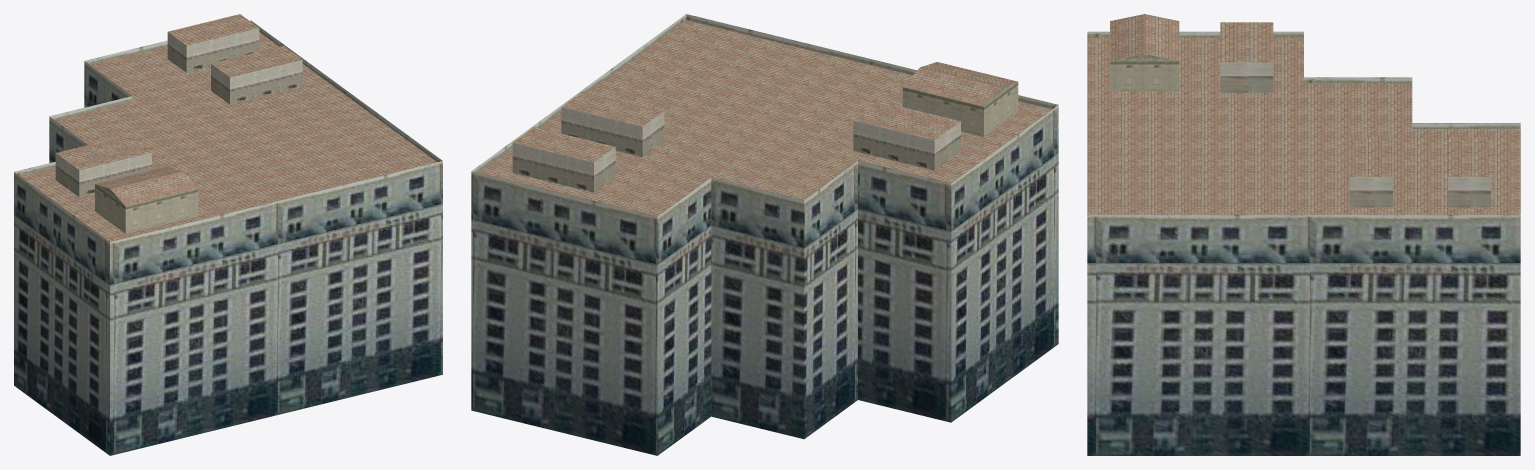
3 renders of one model, left to right at view 1: azimuth 30°, elevation 25°; view 2: azimuth 150°, elevation 25°; view 3: azimuth 270°, elevation 25°, orthographic. The views are drawn at different scales.
Parts seen in each view (by area): view 1: Object_1, Object_2, Object_3, Object_6, Object_5, Object_4, Object_11, Object_9, Object_10, Object_8, Object_7; view 2: Object_1, Object_2, Object_11, Object_9, Object_5, Object_3, Object_6, Object_4, Object_10, Object_7, Object_8; view 3: Object_1, Object_2, Object_4, Object_3, Object_11, Object_10, Object_8, Object_7, Object_9, Object_6, Object_5.
Part boxes in pixels (x1=…): Object_1: x1=14, y1=20, x2=442, y2=455; Object_2: x1=20, y1=32, x2=436, y2=241; Object_3: x1=95, y1=184, x2=198, y2=233; Object_6: x1=211, y1=60, x2=302, y2=104; Object_5: x1=167, y1=28, x2=259, y2=72; Object_4: x1=95, y1=166, x2=197, y2=206; Object_11: x1=16, y1=21, x2=442, y2=246; Object_9: x1=55, y1=152, x2=151, y2=197; Object_10: x1=56, y1=135, x2=151, y2=169; Object_8: x1=168, y1=14, x2=258, y2=45; Object_7: x1=211, y1=46, x2=302, y2=77; Object_1: x1=471, y1=14, x2=1058, y2=455; Object_2: x1=477, y1=20, x2=1051, y2=216; Object_11: x1=471, y1=14, x2=1058, y2=222; Object_9: x1=853, y1=120, x2=960, y2=170; Object_5: x1=512, y1=142, x2=615, y2=192; Object_3: x1=902, y1=82, x2=1018, y2=136; Object_6: x1=561, y1=107, x2=664, y2=157; Object_4: x1=903, y1=62, x2=1017, y2=106; Object_10: x1=853, y1=101, x2=960, y2=140; Object_7: x1=562, y1=91, x2=663, y2=126; Object_8: x1=513, y1=127, x2=615, y2=162; Object_1: x1=1087, y1=31, x2=1520, y2=455; Object_2: x1=1087, y1=37, x2=1520, y2=214; Object_4: x1=1110, y1=14, x2=1179, y2=60; Object_3: x1=1110, y1=54, x2=1179, y2=91; Object_11: x1=1087, y1=31, x2=1520, y2=220; Object_10: x1=1220, y1=22, x2=1273, y2=62; Object_8: x1=1447, y1=137, x2=1490, y2=176; Object_7: x1=1349, y1=137, x2=1392, y2=176; Object_9: x1=1220, y1=62, x2=1273, y2=92; Object_6: x1=1349, y1=177, x2=1392, y2=207; Object_5: x1=1447, y1=177, x2=1490, y2=207.
Size of the model in its own units: 1283 by 1283 by 891.
11 materials, 11 textured.
